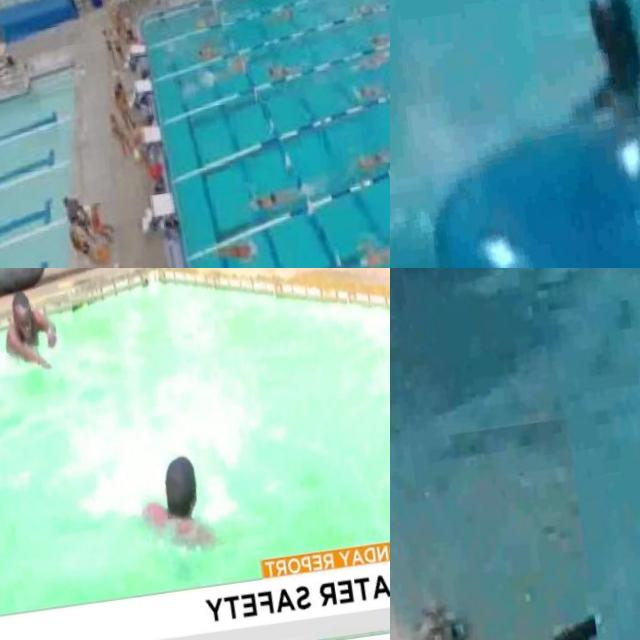drowning: (390, 418, 610, 640), (442, 0, 640, 178), (120, 435, 240, 570)
out of water: (59, 195, 90, 228), (65, 228, 97, 258), (82, 209, 110, 241), (112, 256, 138, 268)
swimming: (0, 279, 73, 387), (247, 182, 302, 224), (214, 230, 255, 266), (353, 229, 390, 268), (354, 147, 390, 180), (356, 50, 390, 73), (352, 82, 383, 107), (197, 40, 223, 66), (263, 62, 300, 80), (371, 34, 390, 51)
